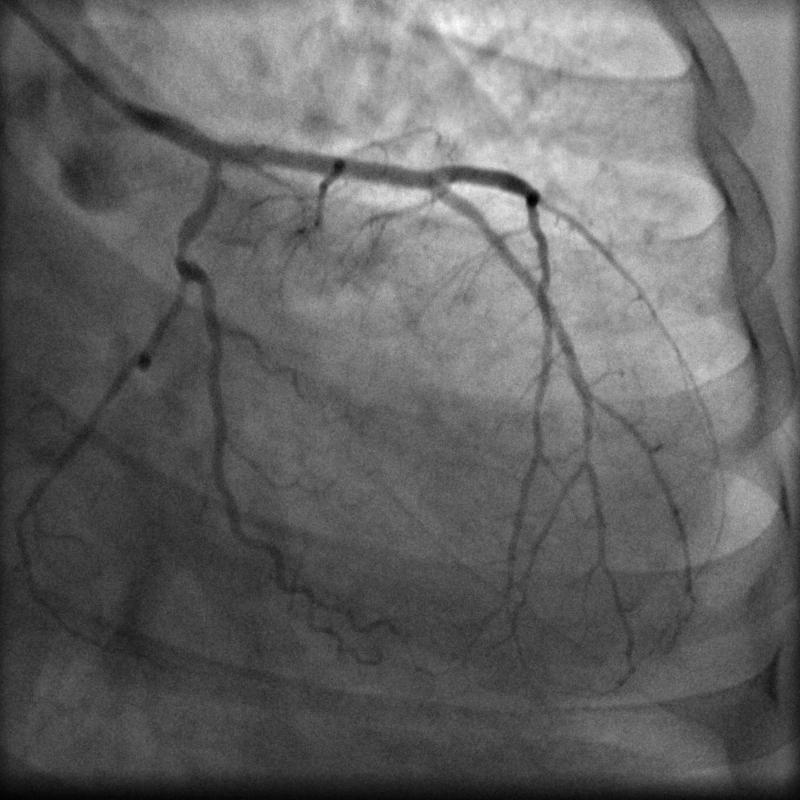Stenosis: (164, 232, 203, 265)
